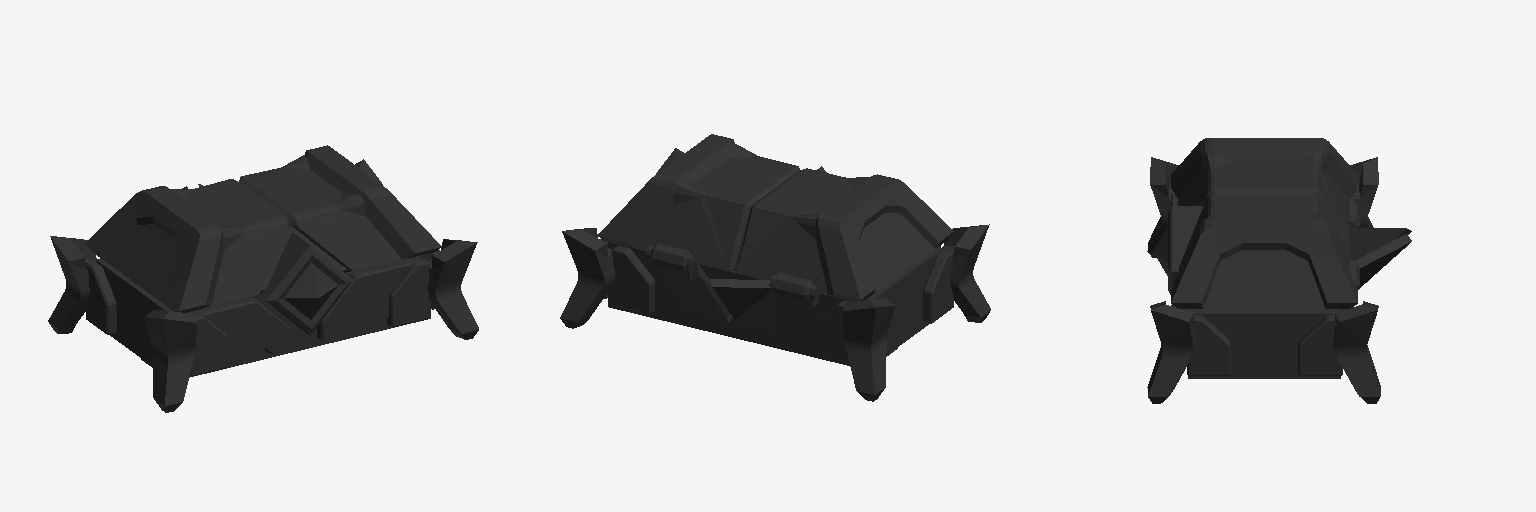
Rendered from chest.obj.
3 views of the same model, side by side, from view 1: azimuth 30°, elevation 25°; view 2: azimuth 150°, elevation 25°; view 3: azimuth 270°, elevation 25° (orthographic).
Visible parts, largest first — view 1: Object006_low_Object006_low; view 2: Object006_low_Object006_low; view 3: Object006_low_Object006_low.
Boxes of the visible parts, x1,y1,x2,y2 form: Object006_low_Object006_low: [48, 145, 478, 412]; Object006_low_Object006_low: [560, 134, 990, 401]; Object006_low_Object006_low: [1147, 138, 1411, 403].
Size of the model in its own units: 200 by 88.46 by 145.